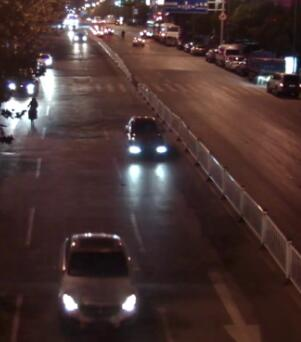bus: (154, 20, 180, 46), (144, 19, 158, 38)
car: (60, 233, 140, 332), (124, 116, 167, 158), (246, 48, 285, 83), (5, 64, 38, 98), (268, 69, 298, 91), (215, 43, 241, 68), (223, 53, 244, 70), (36, 51, 53, 67), (189, 42, 205, 55), (72, 31, 88, 43), (205, 47, 218, 61), (131, 36, 146, 46), (138, 28, 152, 38)
